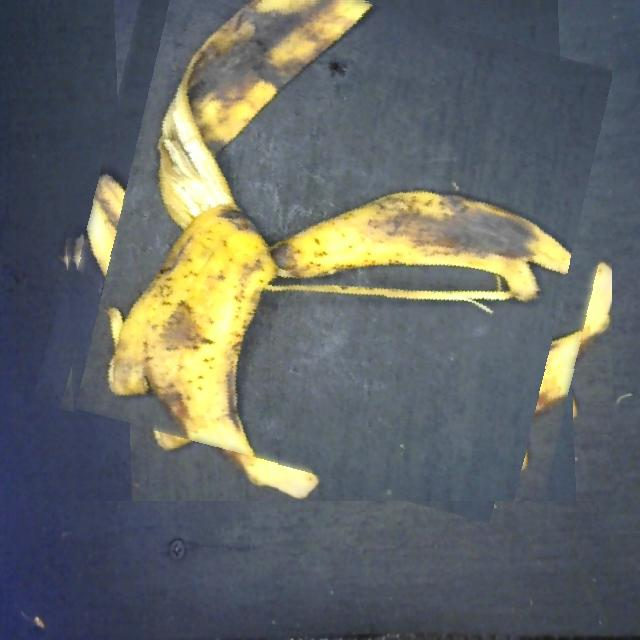biodegradable: (58, 0, 612, 501)
